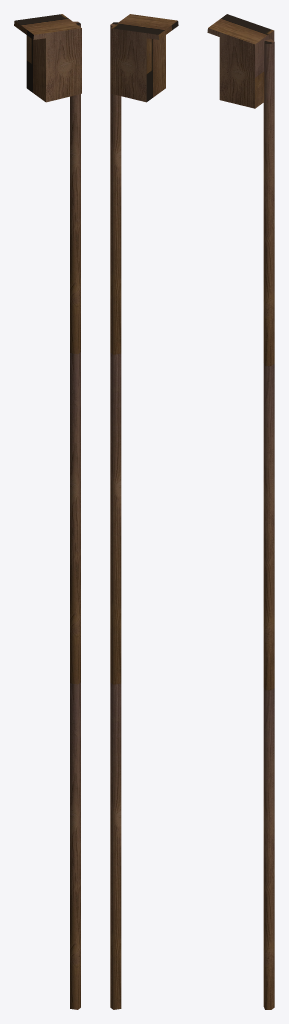
The model's file is birdhouse.FBX.
3 renders of one model, left to right at view 1: azimuth 30°, elevation 25°; view 2: azimuth 150°, elevation 25°; view 3: azimuth 330°, elevation 25°, orthographic.
Visible parts, largest first — view 1: birdhouse; view 2: birdhouse; view 3: birdhouse.
Part boxes in pixels (bbox=[...]): birdhouse: bbox=[14, 14, 81, 1009]; birdhouse: bbox=[110, 14, 178, 1009]; birdhouse: bbox=[207, 14, 274, 1009].
Size of what is drawn, in the model's own units: 32.16 by 542 by 19.22.
